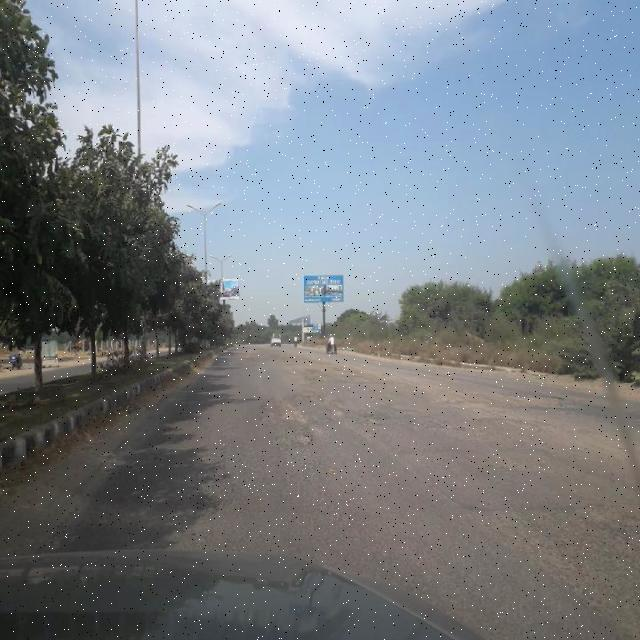D00: (353, 424, 466, 508)
D20: (97, 429, 417, 554), (470, 492, 640, 638)
D40: (260, 388, 346, 426), (495, 380, 578, 416), (428, 378, 487, 415), (303, 362, 374, 386), (287, 428, 317, 452), (355, 404, 385, 428)
